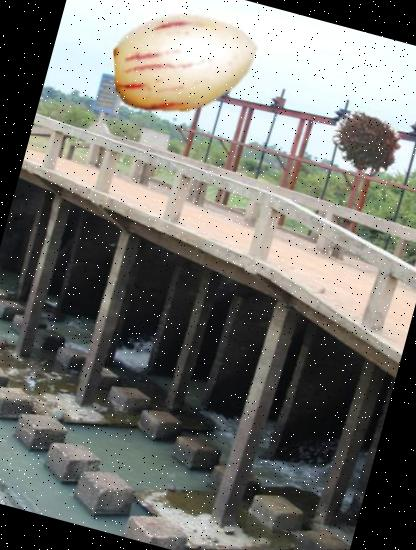Pepino: (97, 0, 275, 152)
Rambutan: (323, 98, 412, 186)
